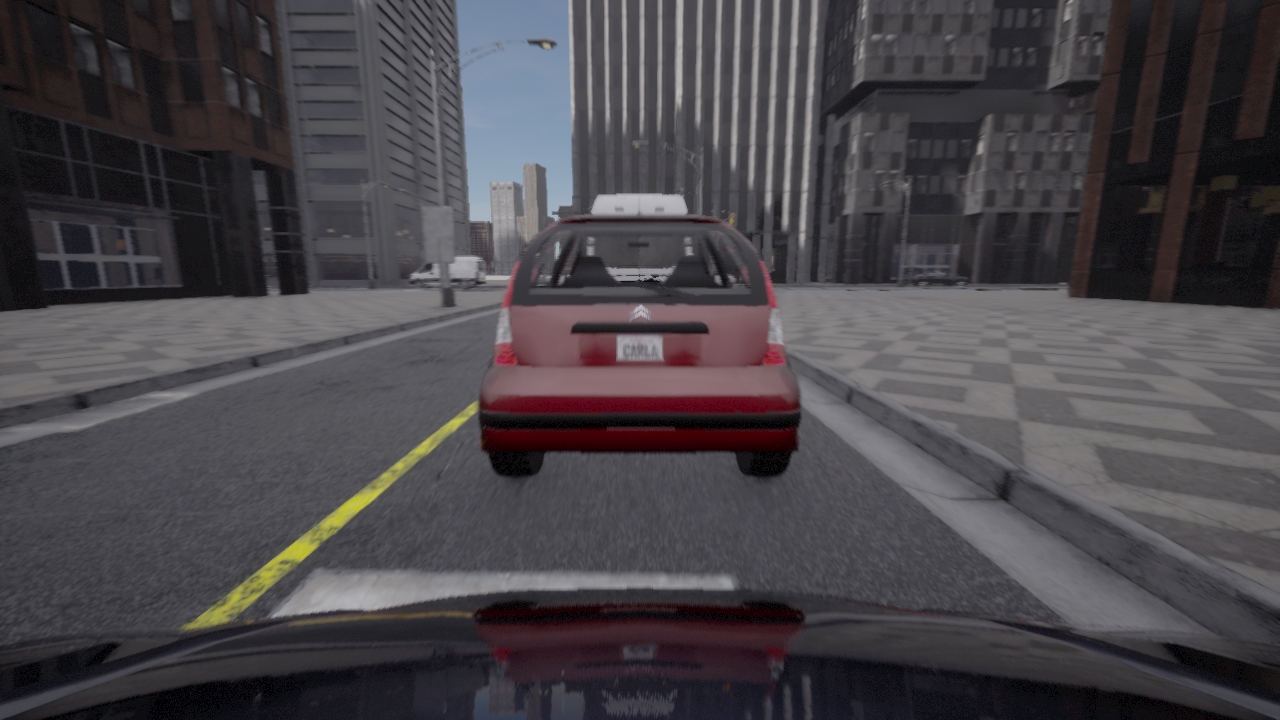cyclist: (0, 588, 1279, 719), (477, 214, 801, 476), (408, 256, 484, 288), (592, 195, 686, 214), (902, 269, 967, 286)
